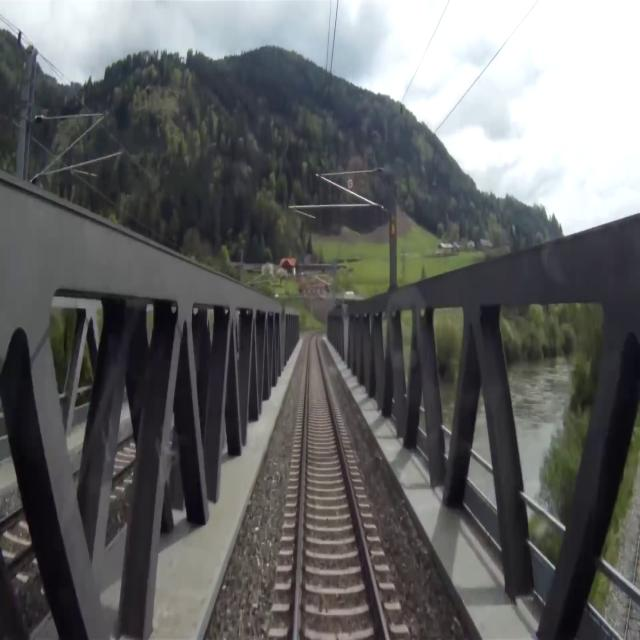rail-track: (298, 335, 384, 639)
